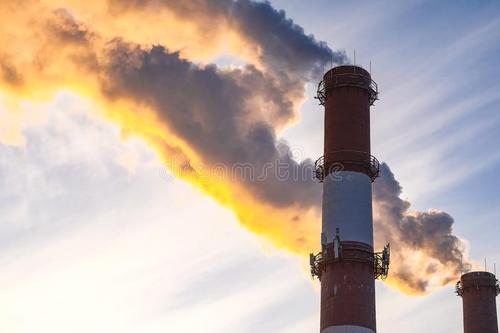smoke: (19, 9, 313, 242)
